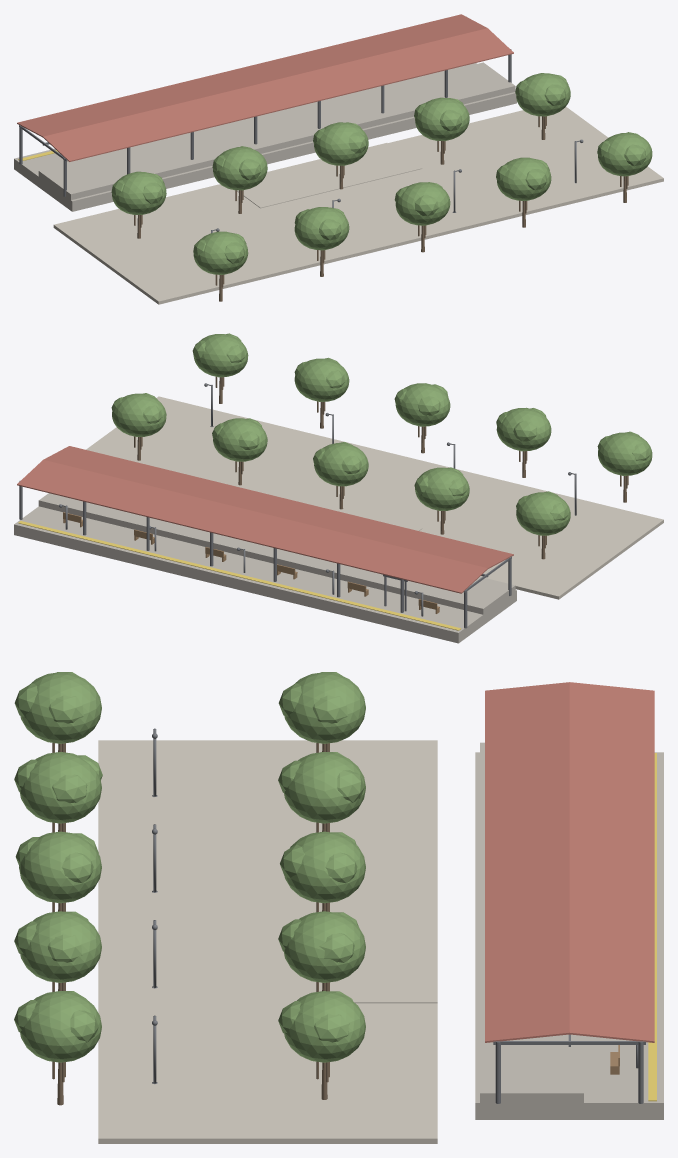
Rendered from STATION_MAIN.glb.
The picture shows the model from 3 angles, top to bottom: view 1: azimuth 30°, elevation 25°; view 2: azimuth 150°, elevation 25°; view 3: azimuth 270°, elevation 25°; orthographic projection. The views are drawn at different scales.
Parts seen in each view (by area): view 1: Station_Square, STATION_MAIN_Canopy, STATION_MAIN_Platform, Tree_Leaves.005, Tree_Leaves.002, Tree_Leaves.004, Tree_Leaves.007, Tree_Leaves.009, Tree_Leaves.006, Tree_Leaves, Tree_Leaves.001, Tree_Leaves.008 (+12 smaller); view 2: Station_Square, STATION_MAIN_Canopy, STATION_MAIN_Platform, STATION_MAIN_SafetyLine, Tree_Leaves.001, Tree_Leaves, Tree_Leaves.006, Tree_Leaves.009, Tree_Leaves.007, Tree_Leaves.005, Tree_Leaves.008, Tree_Leaves.002 (+9 smaller); view 3: Station_Square, STATION_MAIN_Canopy, STATION_MAIN_Platform, Tree_Leaves.004, Tree_Leaves.003, Tree_Leaves.008, Tree_Leaves.007, Tree_Leaves.002, Tree_Leaves.006, Tree_Leaves.009, Tree_Leaves, Tree_Leaves.001 (+13 smaller).
Boxes of the visible parts, bbox=[...] form: Station_Square: bbox=[53, 107, 663, 304]; STATION_MAIN_Canopy: bbox=[17, 14, 513, 161]; STATION_MAIN_Platform: bbox=[14, 62, 516, 211]; Tree_Leaves.005: bbox=[314, 122, 368, 165]; Tree_Leaves.002: bbox=[294, 207, 349, 250]; Tree_Leaves.004: bbox=[395, 182, 450, 225]; Tree_Leaves.007: bbox=[415, 97, 469, 141]; Tree_Leaves.009: bbox=[516, 73, 570, 116]; Tree_Leaves.006: bbox=[496, 157, 551, 200]; Tree_Leaves: bbox=[193, 231, 248, 274]; Tree_Leaves.001: bbox=[112, 171, 166, 214]; Tree_Leaves.008: bbox=[598, 133, 652, 176]; Station_Square: bbox=[86, 396, 663, 599]; STATION_MAIN_Canopy: bbox=[17, 446, 513, 593]; STATION_MAIN_Platform: bbox=[14, 493, 516, 643]; STATION_MAIN_SafetyLine: bbox=[18, 521, 461, 630]; Tree_Leaves.001: bbox=[516, 492, 570, 535]; Tree_Leaves: bbox=[598, 432, 652, 475]; Tree_Leaves.006: bbox=[294, 358, 349, 401]; Tree_Leaves.009: bbox=[112, 393, 166, 436]; Tree_Leaves.007: bbox=[213, 418, 267, 461]; Tree_Leaves.005: bbox=[314, 443, 368, 486]; Tree_Leaves.008: bbox=[194, 334, 248, 377]; Tree_Leaves.002: bbox=[496, 407, 551, 451]; Station_Square: bbox=[98, 740, 437, 1143]; STATION_MAIN_Canopy: bbox=[485, 682, 654, 1042]; STATION_MAIN_Platform: bbox=[475, 742, 663, 1119]; Tree_Leaves.004: bbox=[19, 831, 101, 903]; Tree_Leaves.003: bbox=[284, 752, 365, 823]; Tree_Leaves.008: bbox=[20, 991, 101, 1062]; Tree_Leaves.007: bbox=[284, 911, 365, 982]; Tree_Leaves.002: bbox=[19, 752, 101, 823]; Tree_Leaves.006: bbox=[20, 911, 101, 982]; Tree_Leaves.009: bbox=[284, 991, 365, 1062]; Tree_Leaves: bbox=[20, 672, 101, 743]; Tree_Leaves.001: bbox=[284, 672, 365, 743].
Bounding box in the file's own units: 50 × 6.3 × 34.47.
